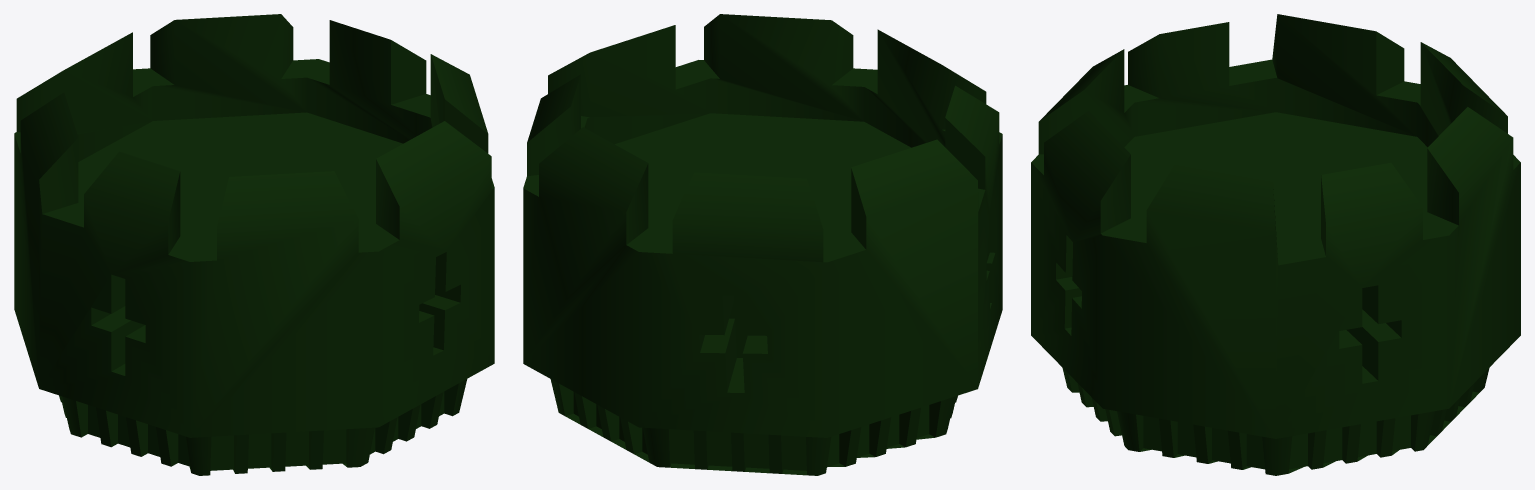
Rendered from round-tower-top-2.fbx.
The picture shows the model from 3 angles, left to right: view 1: azimuth 30°, elevation 25°; view 2: azimuth 150°, elevation 25°; view 3: azimuth 270°, elevation 25°; orthographic projection.
Visible parts, largest first — view 1: round-tower-top-2; view 2: round-tower-top-2; view 3: round-tower-top-2.
Part boxes in pixels (x1,y1,x2,y2): round-tower-top-2: (14, 14, 494, 475); round-tower-top-2: (523, 14, 1002, 475); round-tower-top-2: (1031, 14, 1520, 475).
Size of the model in its own units: 4.17 by 2.72 by 4.17.
